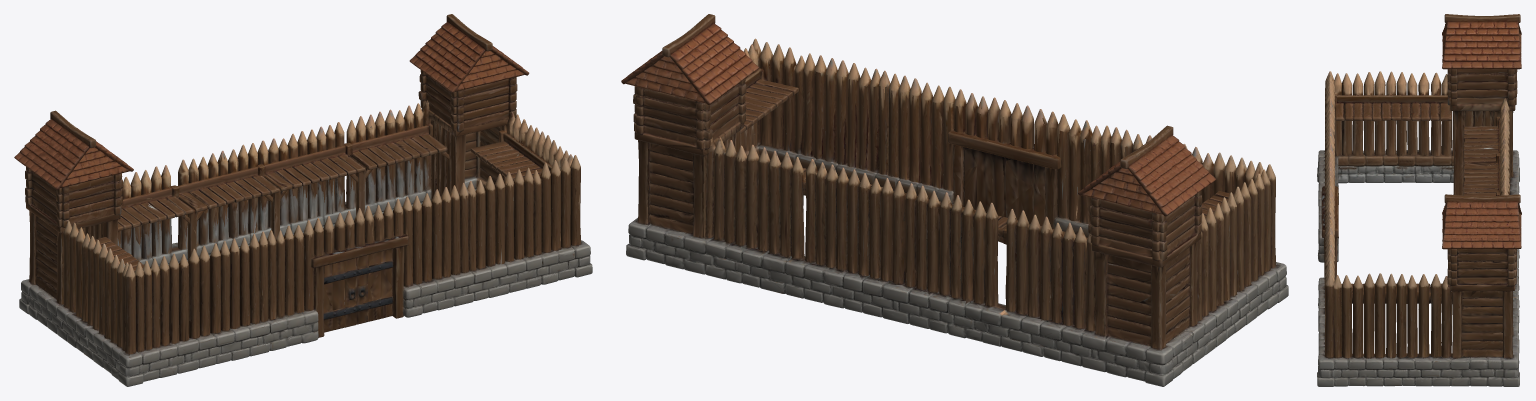
File: OakHillFort_300k.glb
3 views of the same model, side by side, from view 1: azimuth 30°, elevation 25°; view 2: azimuth 150°, elevation 25°; view 3: azimuth 270°, elevation 25° (orthographic). The views are drawn at different scales.
Parts seen in each view (by area): view 1: Mesh_0; view 2: Mesh_0; view 3: Mesh_0.
Part boxes in pixels (x1,y1,x2,y2): Mesh_0: (14,14,592,386); Mesh_0: (621,14,1288,386); Mesh_0: (1317,14,1521,386).
Bounding box in the file's own units: 1.9 × 0.73 × 0.7644.
Materials: 1 (1 with a texture image).
